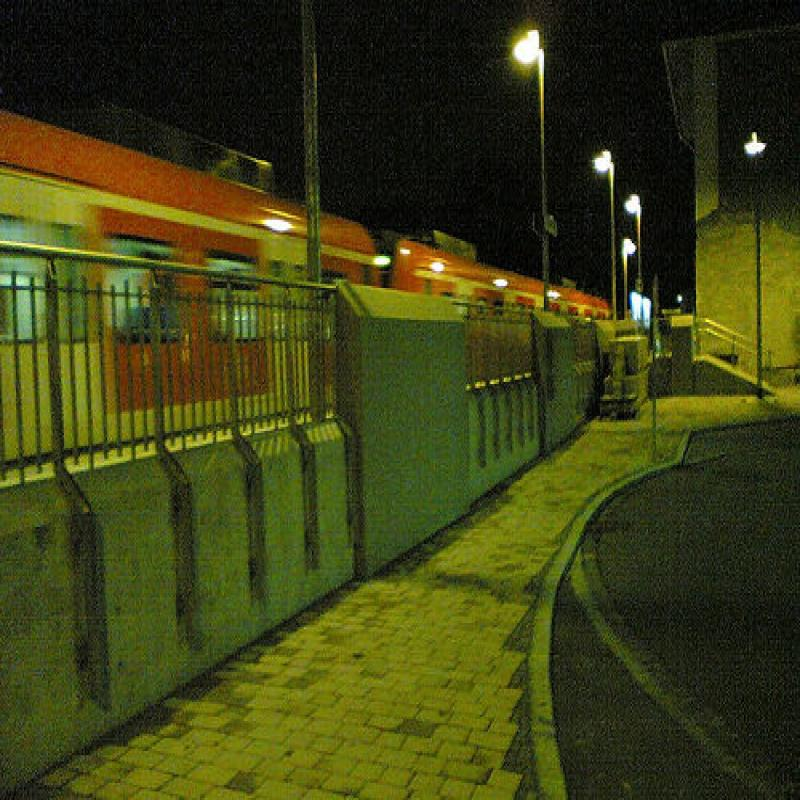train: (1, 108, 609, 485)
